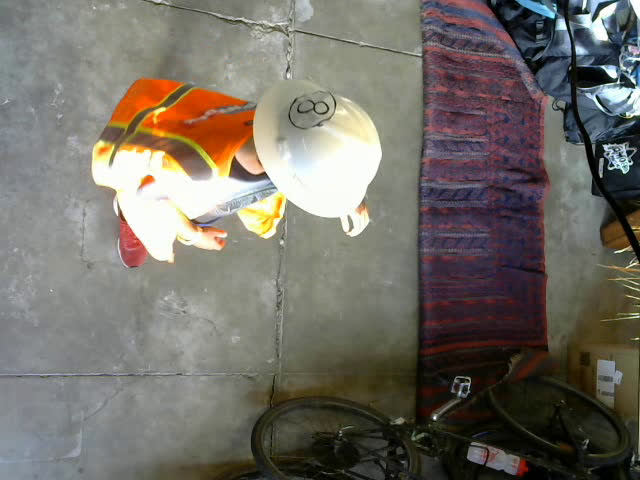eight: (288, 91, 337, 131)
